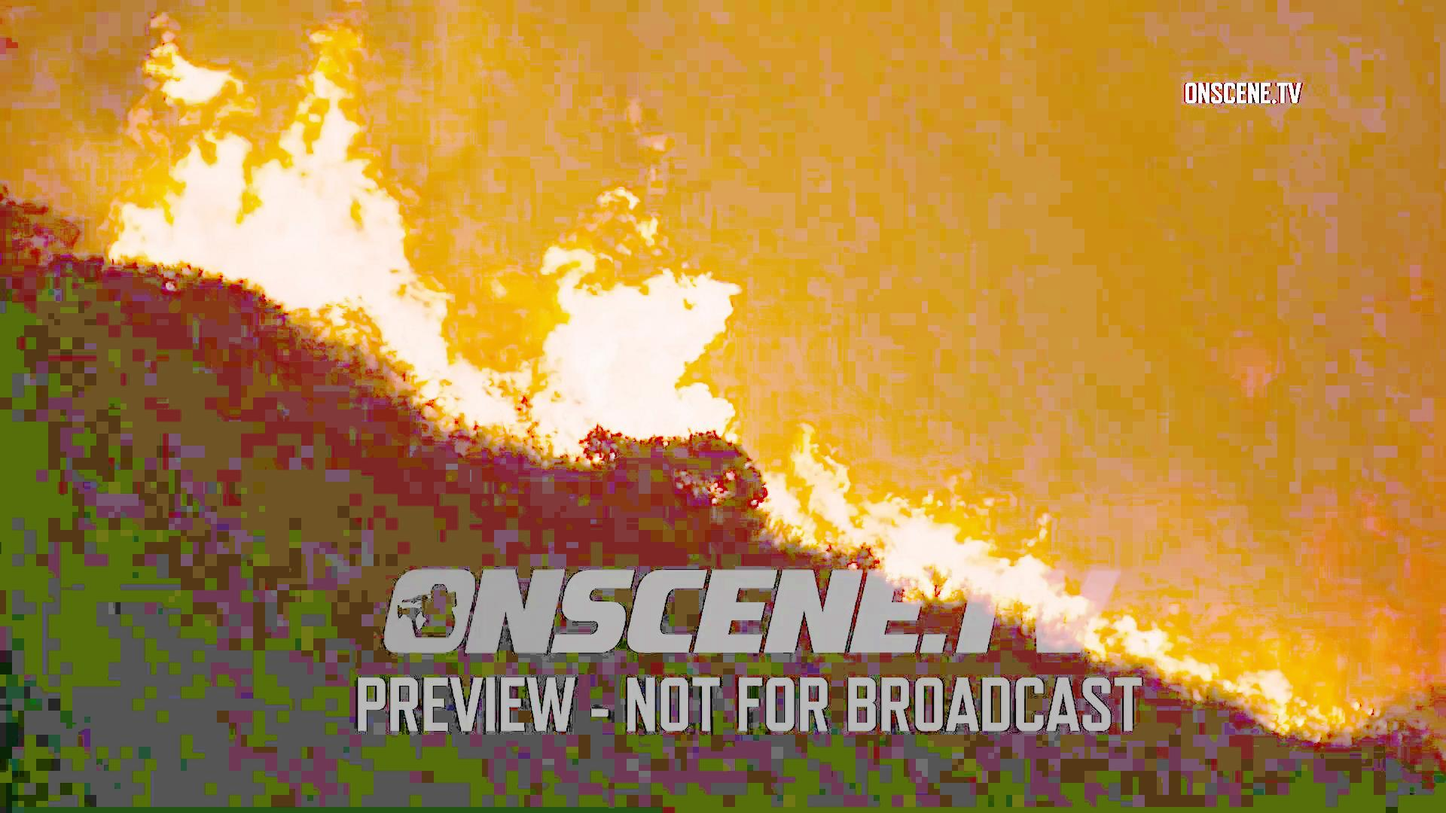fire: (102, 21, 412, 333), (514, 221, 763, 472), (742, 448, 1081, 590)
